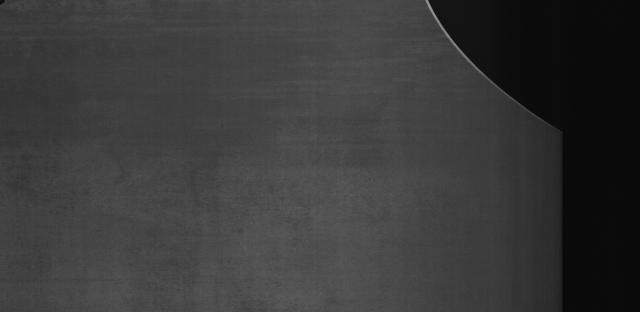crescent_gap: (400, 0, 580, 148)
